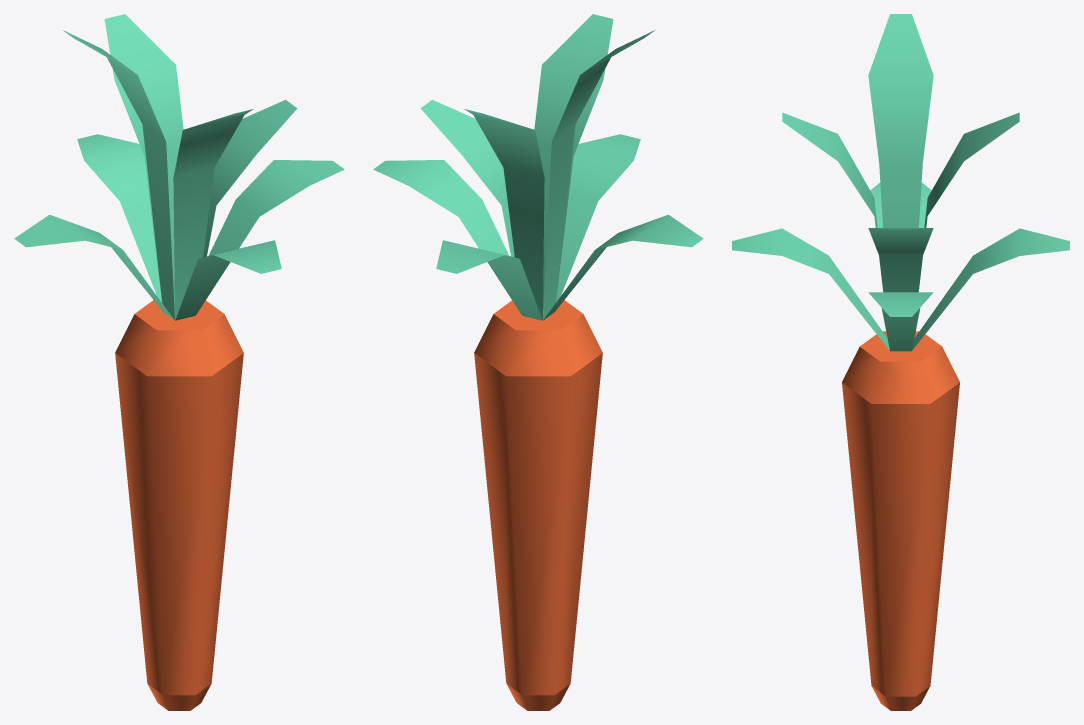
Rendered from carrot.GLB.
The picture shows the model from 3 angles, left to right: view 1: azimuth 30°, elevation 25°; view 2: azimuth 150°, elevation 25°; view 3: azimuth 270°, elevation 25°; orthographic projection. The views are drawn at different scales.
Visible parts, largest first — view 1: carrot; view 2: carrot; view 3: carrot.
Boxes of the visible parts, x1,y1,x2,y2 form: carrot: [14, 14, 344, 710]; carrot: [373, 14, 703, 710]; carrot: [732, 14, 1069, 710].
Bounding box in the file's own units: 0.3431 × 0.7163 × 0.3431.
